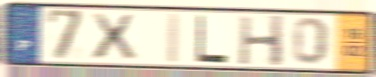0: (290, 15, 332, 68)
7: (45, 7, 86, 63)
H: (237, 14, 287, 69)
I: (164, 11, 184, 65)
L: (194, 13, 230, 65)
X: (88, 12, 140, 61)
